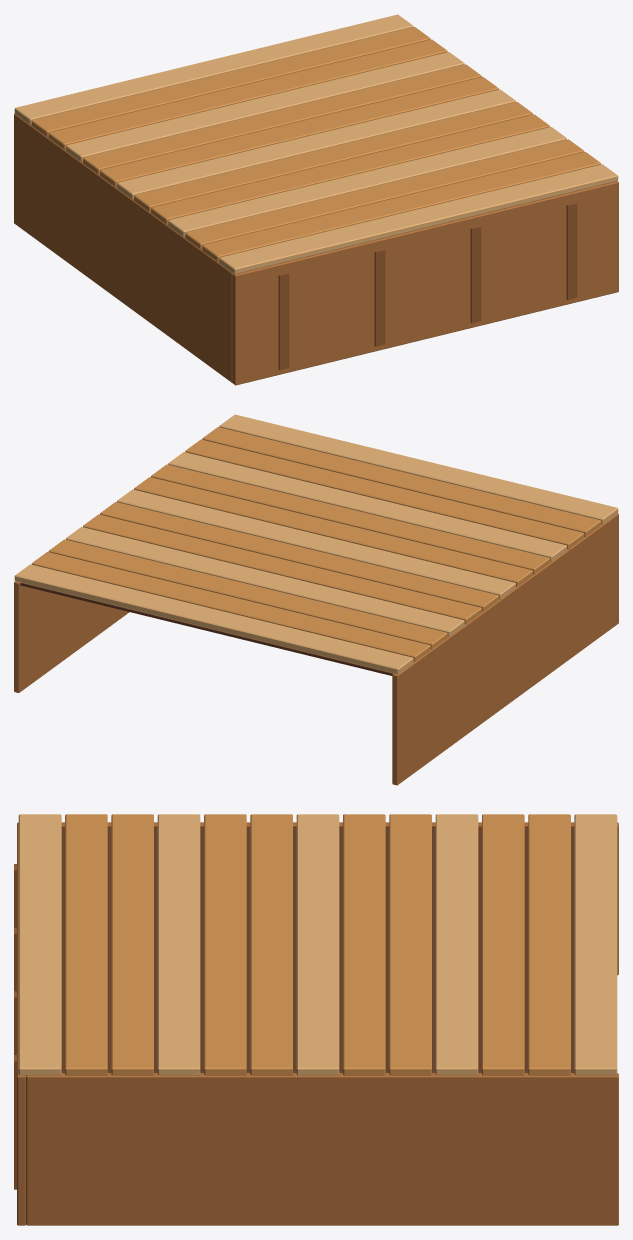
The model's file is deck_2x2m_h60.glb.
3 renders of one model, top to bottom at view 1: azimuth 30°, elevation 25°; view 2: azimuth 150°, elevation 25°; view 3: azimuth 270°, elevation 25°, orthographic. The views are drawn at different scales.
Parts seen in each view (by area): view 1: deck_2x2m_h60; view 2: deck_2x2m_h60; view 3: deck_2x2m_h60.
Part boxes in pixels (box(x1,y1,x2,y2)): deck_2x2m_h60: box(14, 14, 618, 385); deck_2x2m_h60: box(14, 414, 618, 785); deck_2x2m_h60: box(14, 814, 618, 1225).
Bounding box in the file's own units: 2 × 0.58 × 2.01.
1 material, 1 textured.
